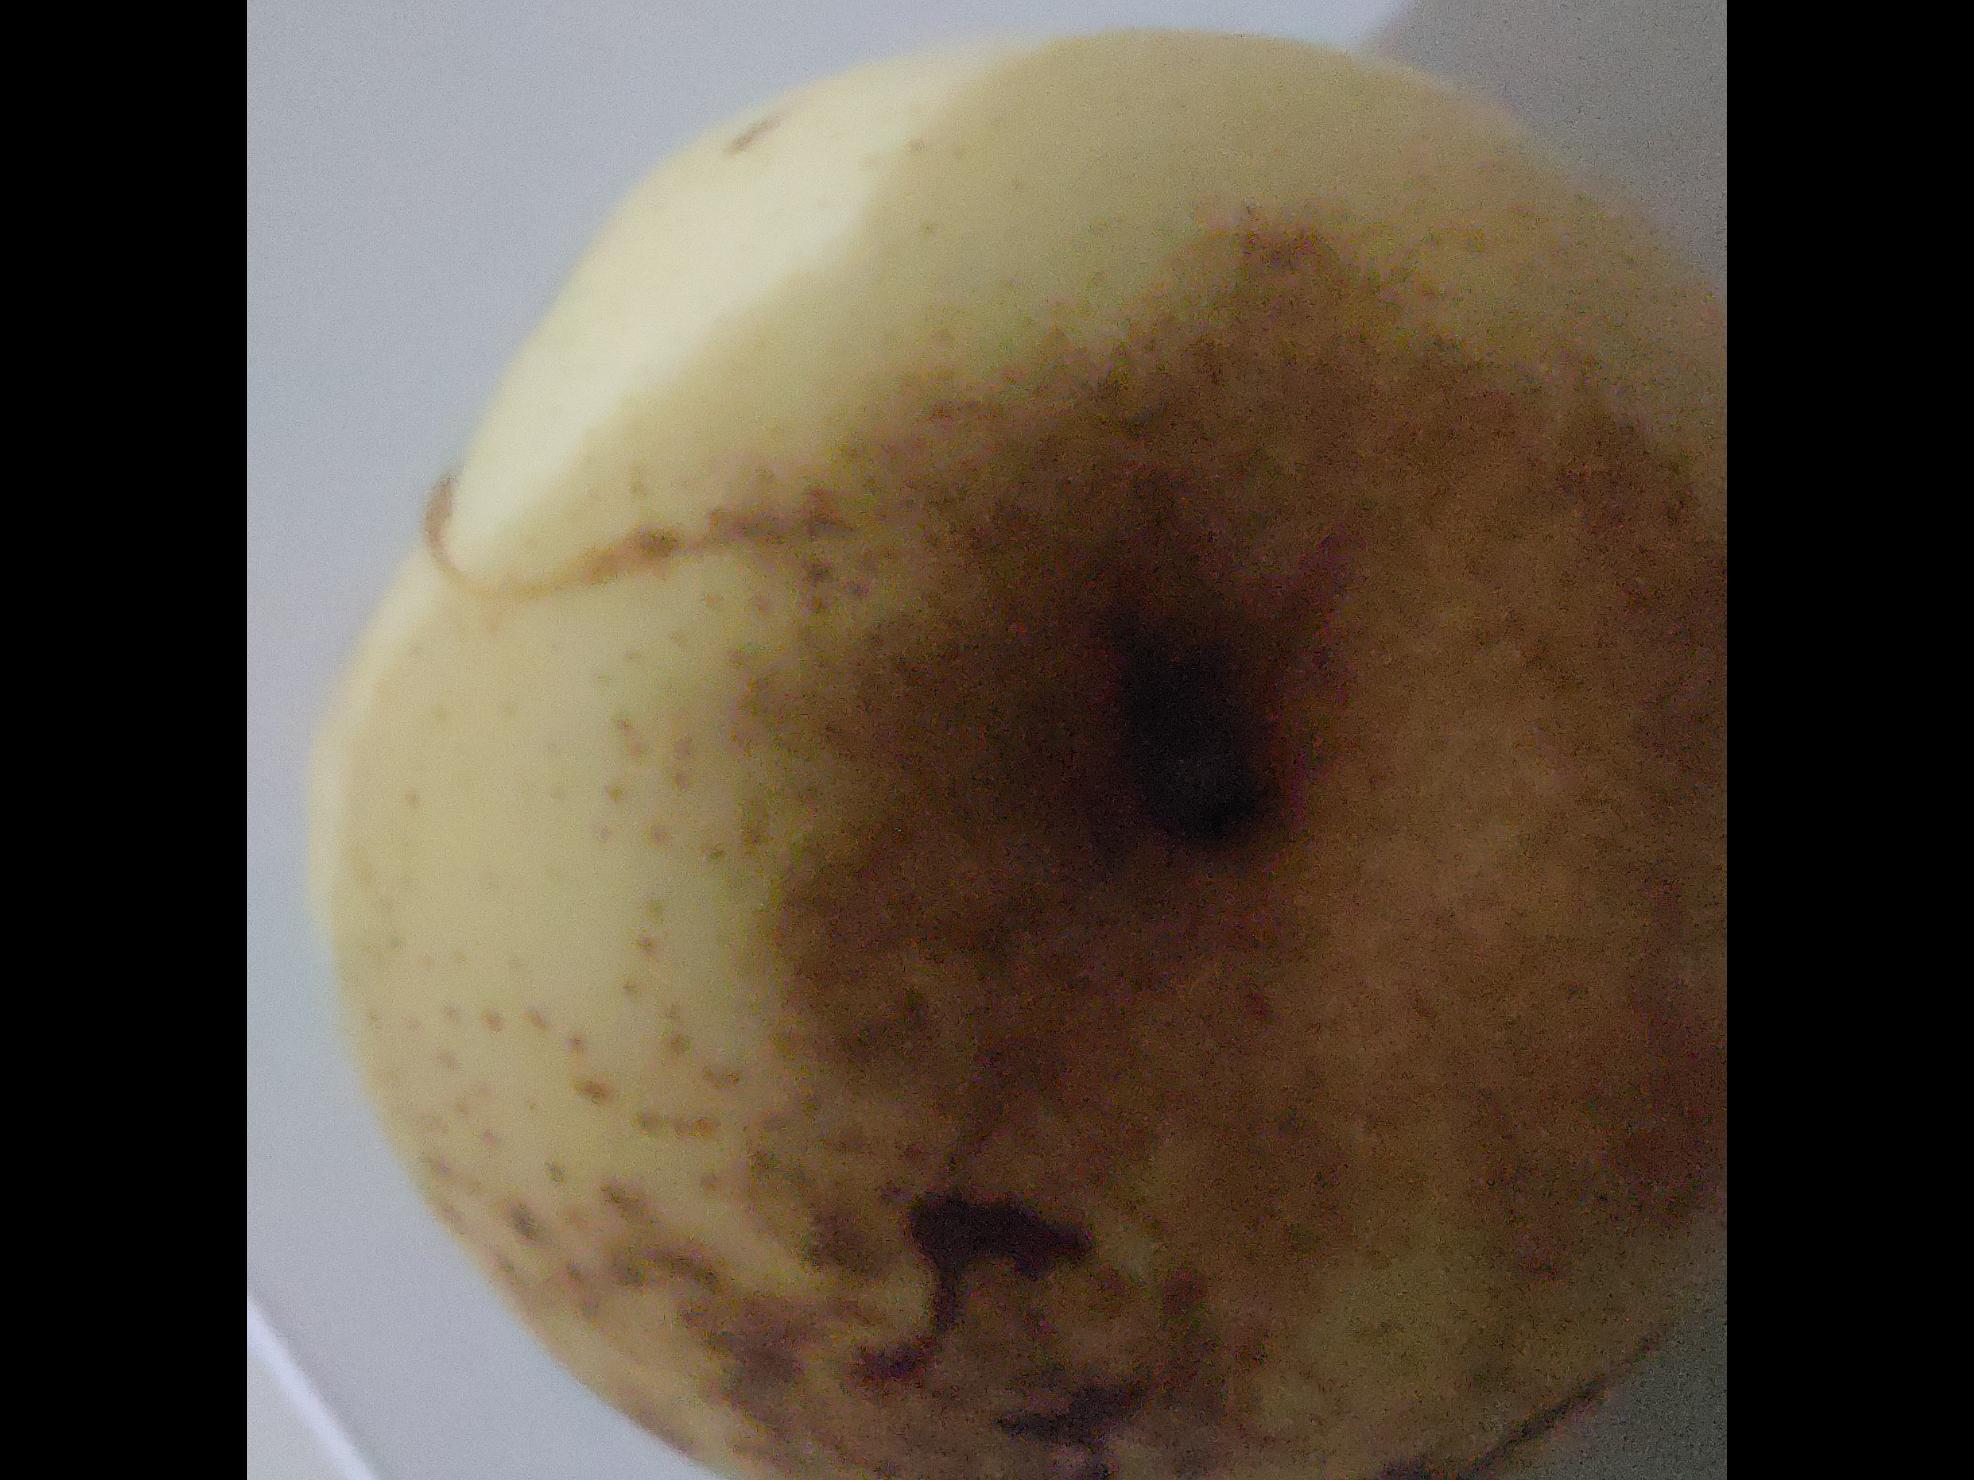Bad Pear: (298, 2, 1727, 1480)
